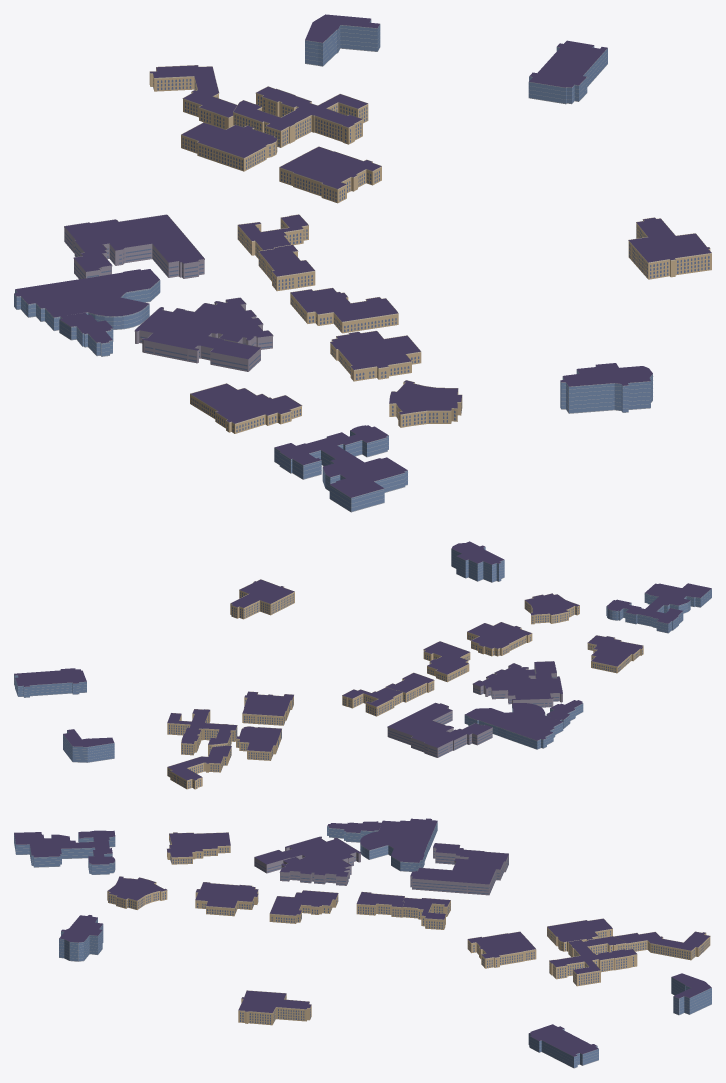
File: campus-core-day.glb
3 renders of one model, top to bottom at view 1: azimuth 30°, elevation 25°; view 2: azimuth 150°, elevation 25°; view 3: azimuth 270°, elevation 25°, orthographic. The views are drawn at different scales.
Visible parts, largest first — view 1: campus-core-day-11, campus-core-day-18, campus-core-day-12, campus-core-day-13, campus-core-day-7, campus-core-day-15, campus-core-day-0, campus-core-day-5, campus-core-day-10, campus-core-day-3, campus-core-day-14, campus-core-day-8 (+7 smaller); view 2: campus-core-day-12, campus-core-day-18, campus-core-day-11, campus-core-day-13, campus-core-day-7, campus-core-day-14, campus-core-day-0, campus-core-day-15, campus-core-day-3, campus-core-day-6, campus-core-day-10, campus-core-day-5 (+7 smaller); view 3: campus-core-day-11, campus-core-day-12, campus-core-day-18, campus-core-day-13, campus-core-day-7, campus-core-day-0, campus-core-day-14, campus-core-day-5, campus-core-day-3, campus-core-day-6, campus-core-day-10, campus-core-day-8 (+7 smaller).
Boxes of the visible parts, x1,y1,x2,y2 form: campus-core-day-11: [134, 297, 273, 371]; campus-core-day-18: [274, 425, 407, 512]; campus-core-day-12: [64, 214, 204, 279]; campus-core-day-13: [14, 269, 160, 330]; campus-core-day-7: [233, 86, 368, 147]; campus-core-day-15: [560, 363, 653, 413]; campus-core-day-0: [628, 217, 711, 279]; campus-core-day-5: [279, 146, 381, 203]; campus-core-day-10: [190, 383, 302, 433]; campus-core-day-3: [330, 330, 421, 381]; campus-core-day-14: [528, 40, 607, 104]; campus-core-day-8: [290, 287, 398, 333]; campus-core-day-12: [387, 702, 492, 757]; campus-core-day-18: [606, 583, 711, 633]; campus-core-day-11: [472, 661, 562, 707]; campus-core-day-13: [464, 703, 563, 749]; campus-core-day-7: [167, 709, 237, 755]; campus-core-day-14: [14, 668, 86, 697]; campus-core-day-0: [230, 579, 294, 619]; campus-core-day-15: [451, 541, 504, 582]; campus-core-day-3: [467, 622, 532, 656]; campus-core-day-6: [167, 745, 231, 789]; campus-core-day-10: [587, 635, 643, 673]; campus-core-day-5: [242, 691, 293, 725]; campus-core-day-11: [254, 836, 360, 885]; campus-core-day-12: [410, 843, 508, 895]; campus-core-day-18: [14, 830, 115, 874]; campus-core-day-13: [360, 818, 437, 871]; campus-core-day-7: [549, 936, 637, 986]; campus-core-day-0: [238, 990, 311, 1025]; campus-core-day-14: [528, 1024, 598, 1068]; campus-core-day-5: [467, 931, 536, 968]; campus-core-day-3: [195, 882, 258, 916]; campus-core-day-6: [614, 931, 710, 960]; campus-core-day-10: [167, 832, 230, 864]; campus-core-day-8: [269, 890, 338, 923].
Bounding box in the file's own units: 663 × 24.8 × 814.
